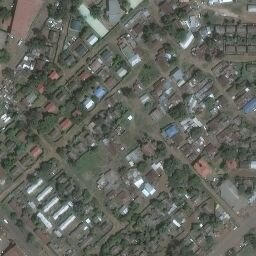tree: (168, 103, 187, 120), (218, 143, 237, 160), (162, 157, 175, 173), (88, 5, 102, 18), (38, 160, 51, 173), (204, 97, 215, 109), (25, 173, 38, 183), (136, 161, 147, 172), (190, 127, 201, 138), (198, 214, 209, 225), (175, 28, 185, 40), (174, 8, 186, 18), (2, 158, 12, 170), (204, 235, 214, 246), (6, 152, 17, 162), (121, 87, 132, 96), (82, 188, 90, 200), (25, 134, 37, 142), (193, 69, 202, 79), (5, 128, 15, 137), (160, 15, 169, 24), (157, 141, 165, 151), (55, 183, 64, 191), (15, 219, 23, 227), (216, 51, 224, 59), (149, 23, 157, 31), (204, 53, 211, 62), (26, 233, 33, 242), (131, 213, 140, 220), (99, 124, 107, 131), (190, 223, 199, 229), (142, 26, 149, 33), (10, 212, 16, 218), (219, 163, 224, 170)
